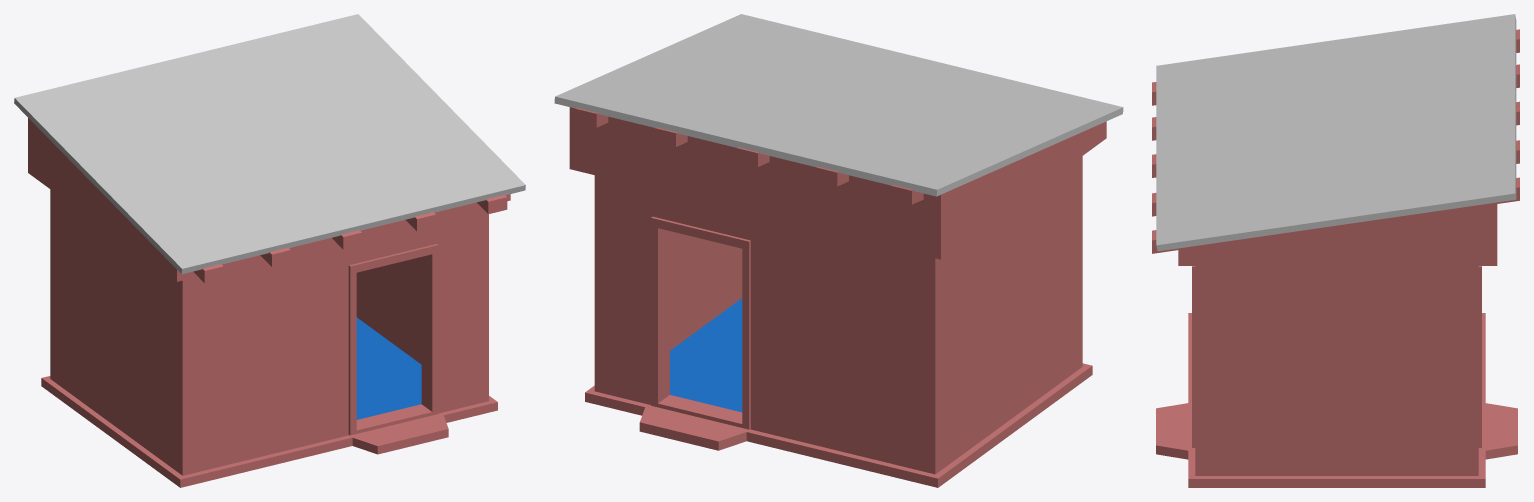
The model's file is SM_entrance.fbx.
3 views of the same model, side by side, from view 1: azimuth 30°, elevation 25°; view 2: azimuth 150°, elevation 25°; view 3: azimuth 270°, elevation 25° (orthographic). The views are drawn at different scales.
Visible parts, largest first — view 1: Cube_9; view 2: Cube_9; view 3: Cube_9.
Boxes of the visible parts, bbox=[...] form: Cube_9: bbox=[14, 14, 525, 487]; Cube_9: bbox=[554, 14, 1123, 487]; Cube_9: bbox=[1152, 14, 1519, 487].
Size of the model in its own units: 459 by 359 by 397.
